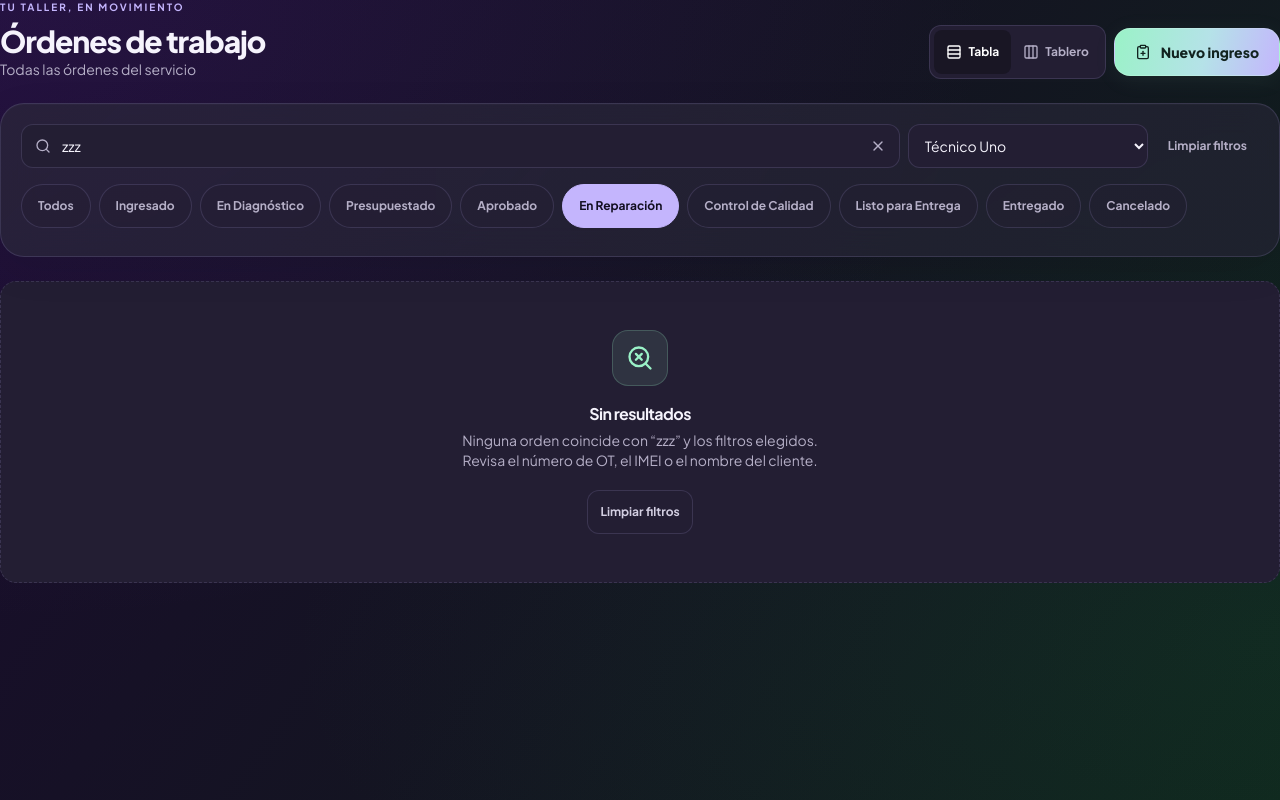
WorkOrdersPage empty results › explains the empty search and resets every filter [003/RF-7.1]
Expected: the heading "Sin resultados" is shown, top-left (589, 402), bottom-right (691, 426)
Expected: the text "Ninguna orden coincide con “zzz”" is shown, top-left (462, 431), bottom-right (818, 469)
Click the button "Limpiar filtros" below "Sin resultados" at x=640, y=512, box top-left (587, 490), bottom-right (693, 534)
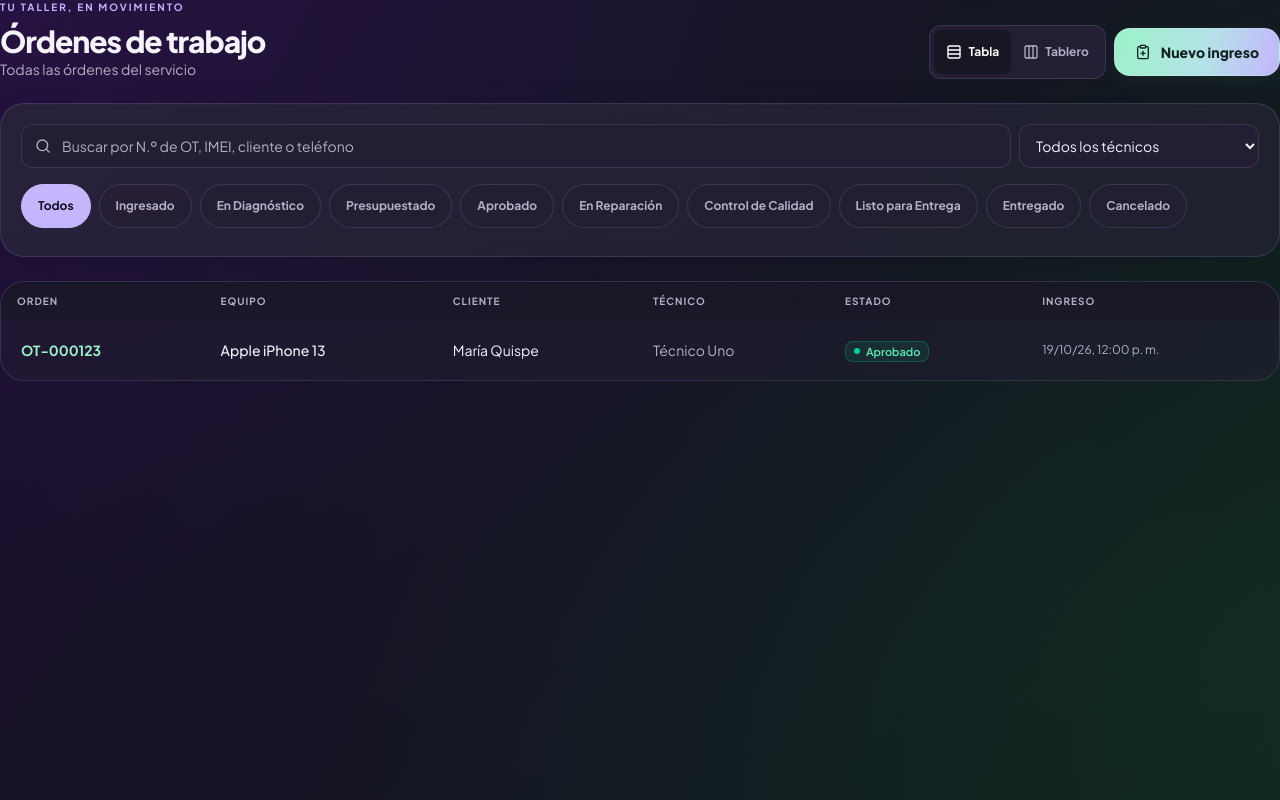
Expected: the text "María Quispe" is shown, top-left (437, 320), bottom-right (637, 380)
Expected: the search field named "Buscar órdenes" is empty, top-left (21, 124), bottom-right (1011, 168)
Expected: the dropdown named "Filtrar por técnico" shows "Todos los técnicos", top-left (1019, 124), bottom-right (1259, 168)
